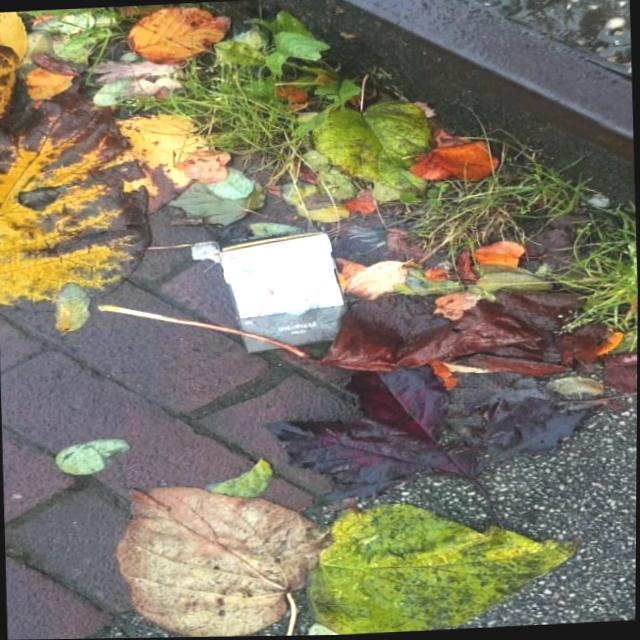Paper: (212, 222, 353, 356)
